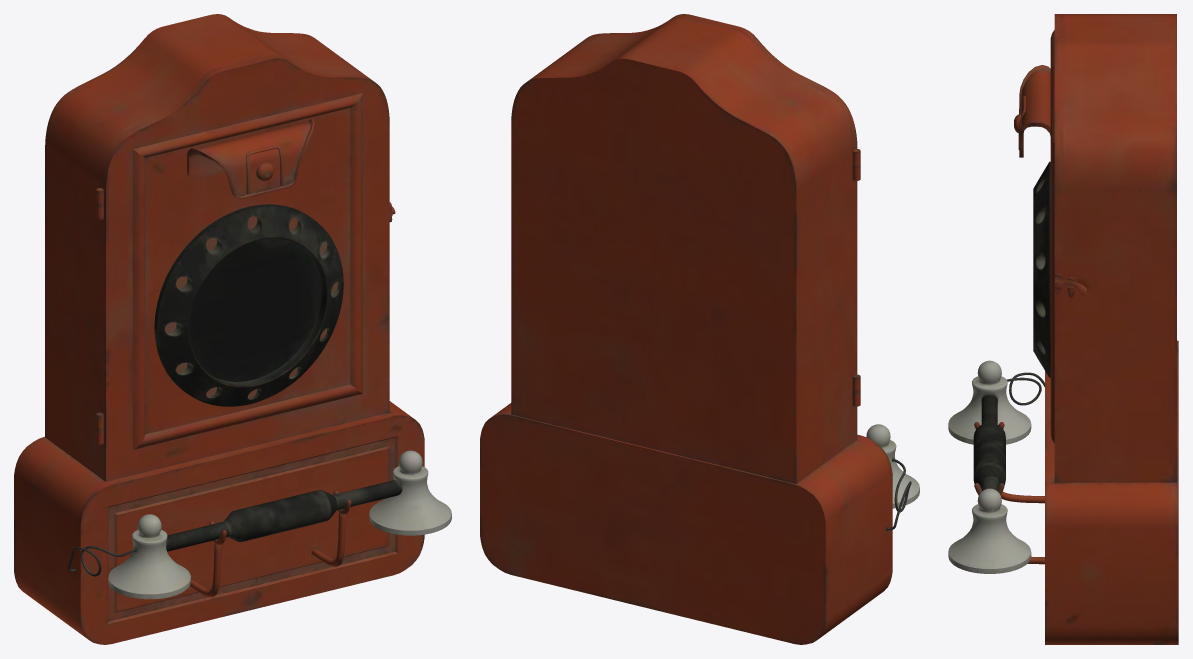
File: vintage_telephone_wall_clock.glb
3 views of the same model, side by side, from view 1: azimuth 30°, elevation 25°; view 2: azimuth 150°, elevation 25°; view 3: azimuth 270°, elevation 25° (orthographic).
Parts seen in each view (by area): view 1: vintage_telephone_wall_clock; view 2: vintage_telephone_wall_clock; view 3: vintage_telephone_wall_clock.
Part boxes in pixels (bbox=[...]): vintage_telephone_wall_clock: bbox=[14, 14, 451, 644]; vintage_telephone_wall_clock: bbox=[480, 14, 919, 644]; vintage_telephone_wall_clock: bbox=[948, 14, 1178, 644].
Bounding box in the file's own units: 0.3428 × 0.5012 × 0.1926.
2 materials, 2 textured.
